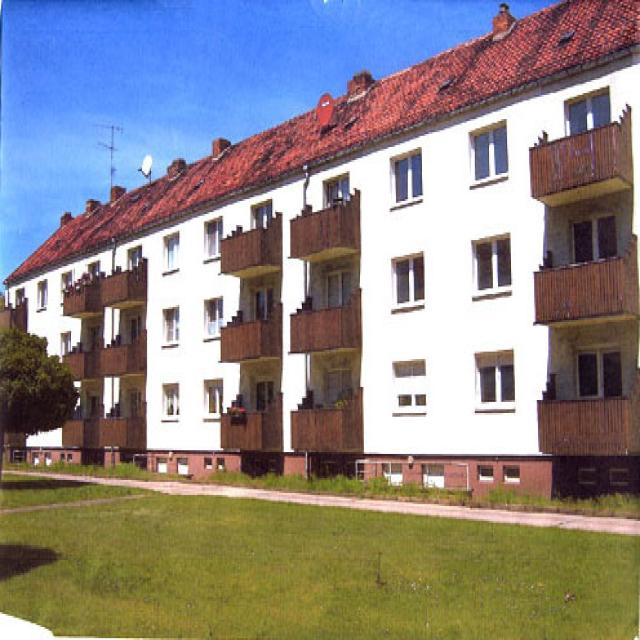window: (470, 236, 516, 305), (475, 350, 517, 415), (468, 125, 507, 186), (388, 253, 428, 311), (391, 359, 427, 419), (390, 147, 420, 214), (200, 294, 226, 342), (204, 378, 227, 424), (161, 232, 181, 281), (199, 220, 223, 258), (158, 313, 180, 344), (162, 389, 180, 422), (35, 277, 48, 311)
